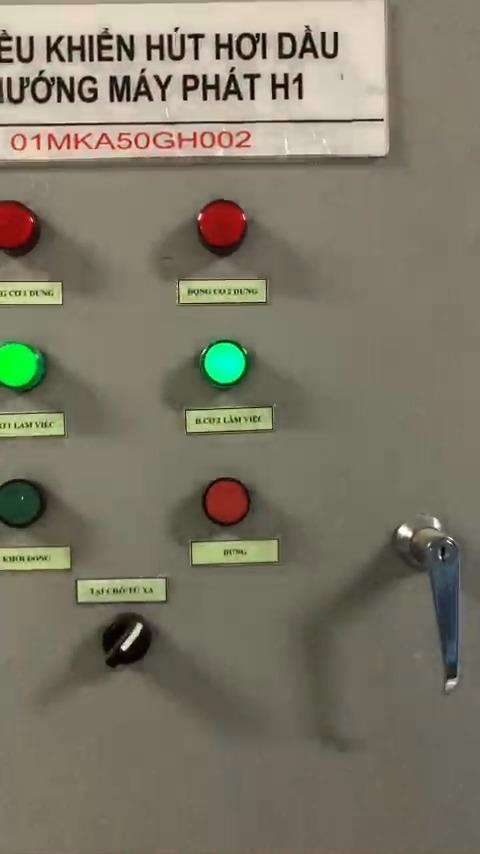led: (198, 331, 255, 391), (194, 196, 250, 251), (0, 473, 54, 529), (199, 472, 254, 525), (0, 342, 51, 391), (0, 196, 42, 251)
twist: (93, 608, 158, 666)
